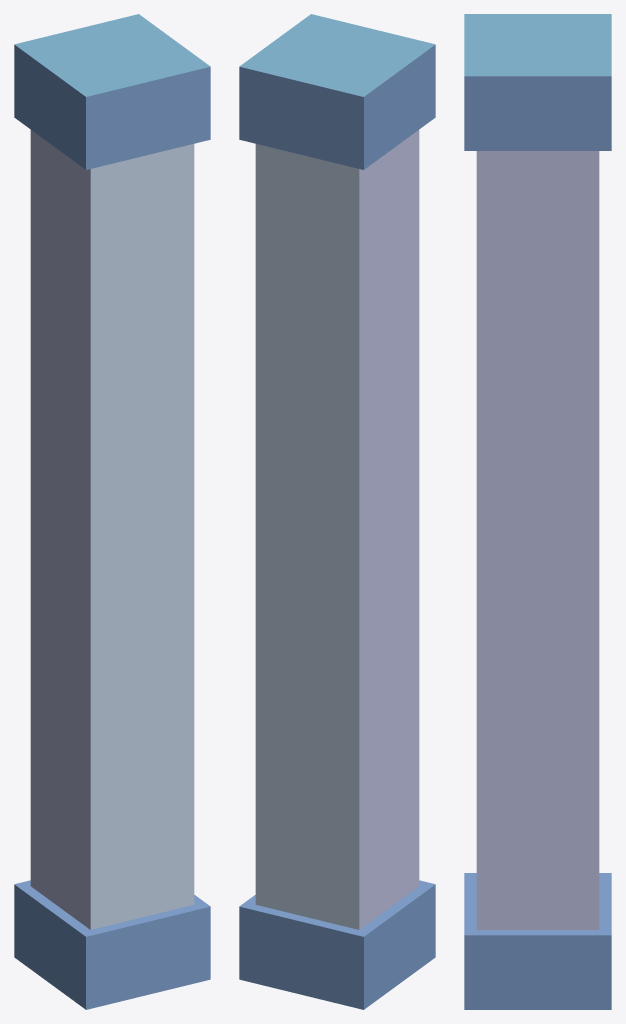
Rendered from pillar_L.fbx.
The picture shows the model from 3 angles, left to right: view 1: azimuth 30°, elevation 25°; view 2: azimuth 150°, elevation 25°; view 3: azimuth 270°, elevation 25°; orthographic projection. The views are drawn at different scales.
Visible parts, largest first — view 1: pillar_l; view 2: pillar_l; view 3: pillar_l.
Part boxes in pixels (<box>): pillar_l: <box>14,14,210,1009</box>; pillar_l: <box>239,14,435,1009</box>; pillar_l: <box>464,14,611,1009</box>.
Bounding box in the file's own units: 60 × 420 × 60.
